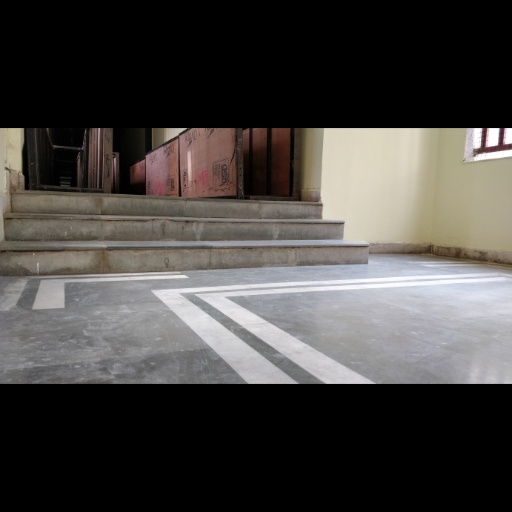Stairs: (0, 191, 369, 275)
